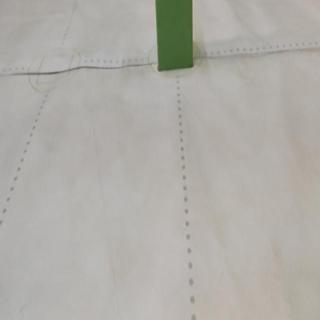greenbox: (155, 1, 194, 69)
